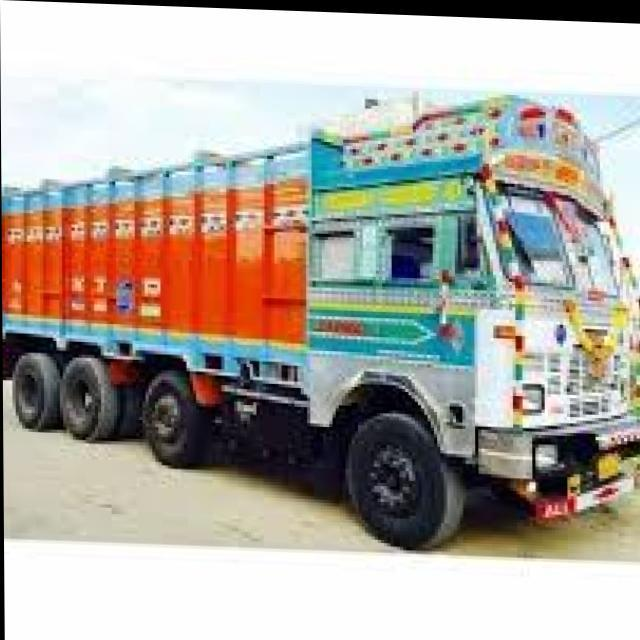covered: (0, 70, 640, 551)
